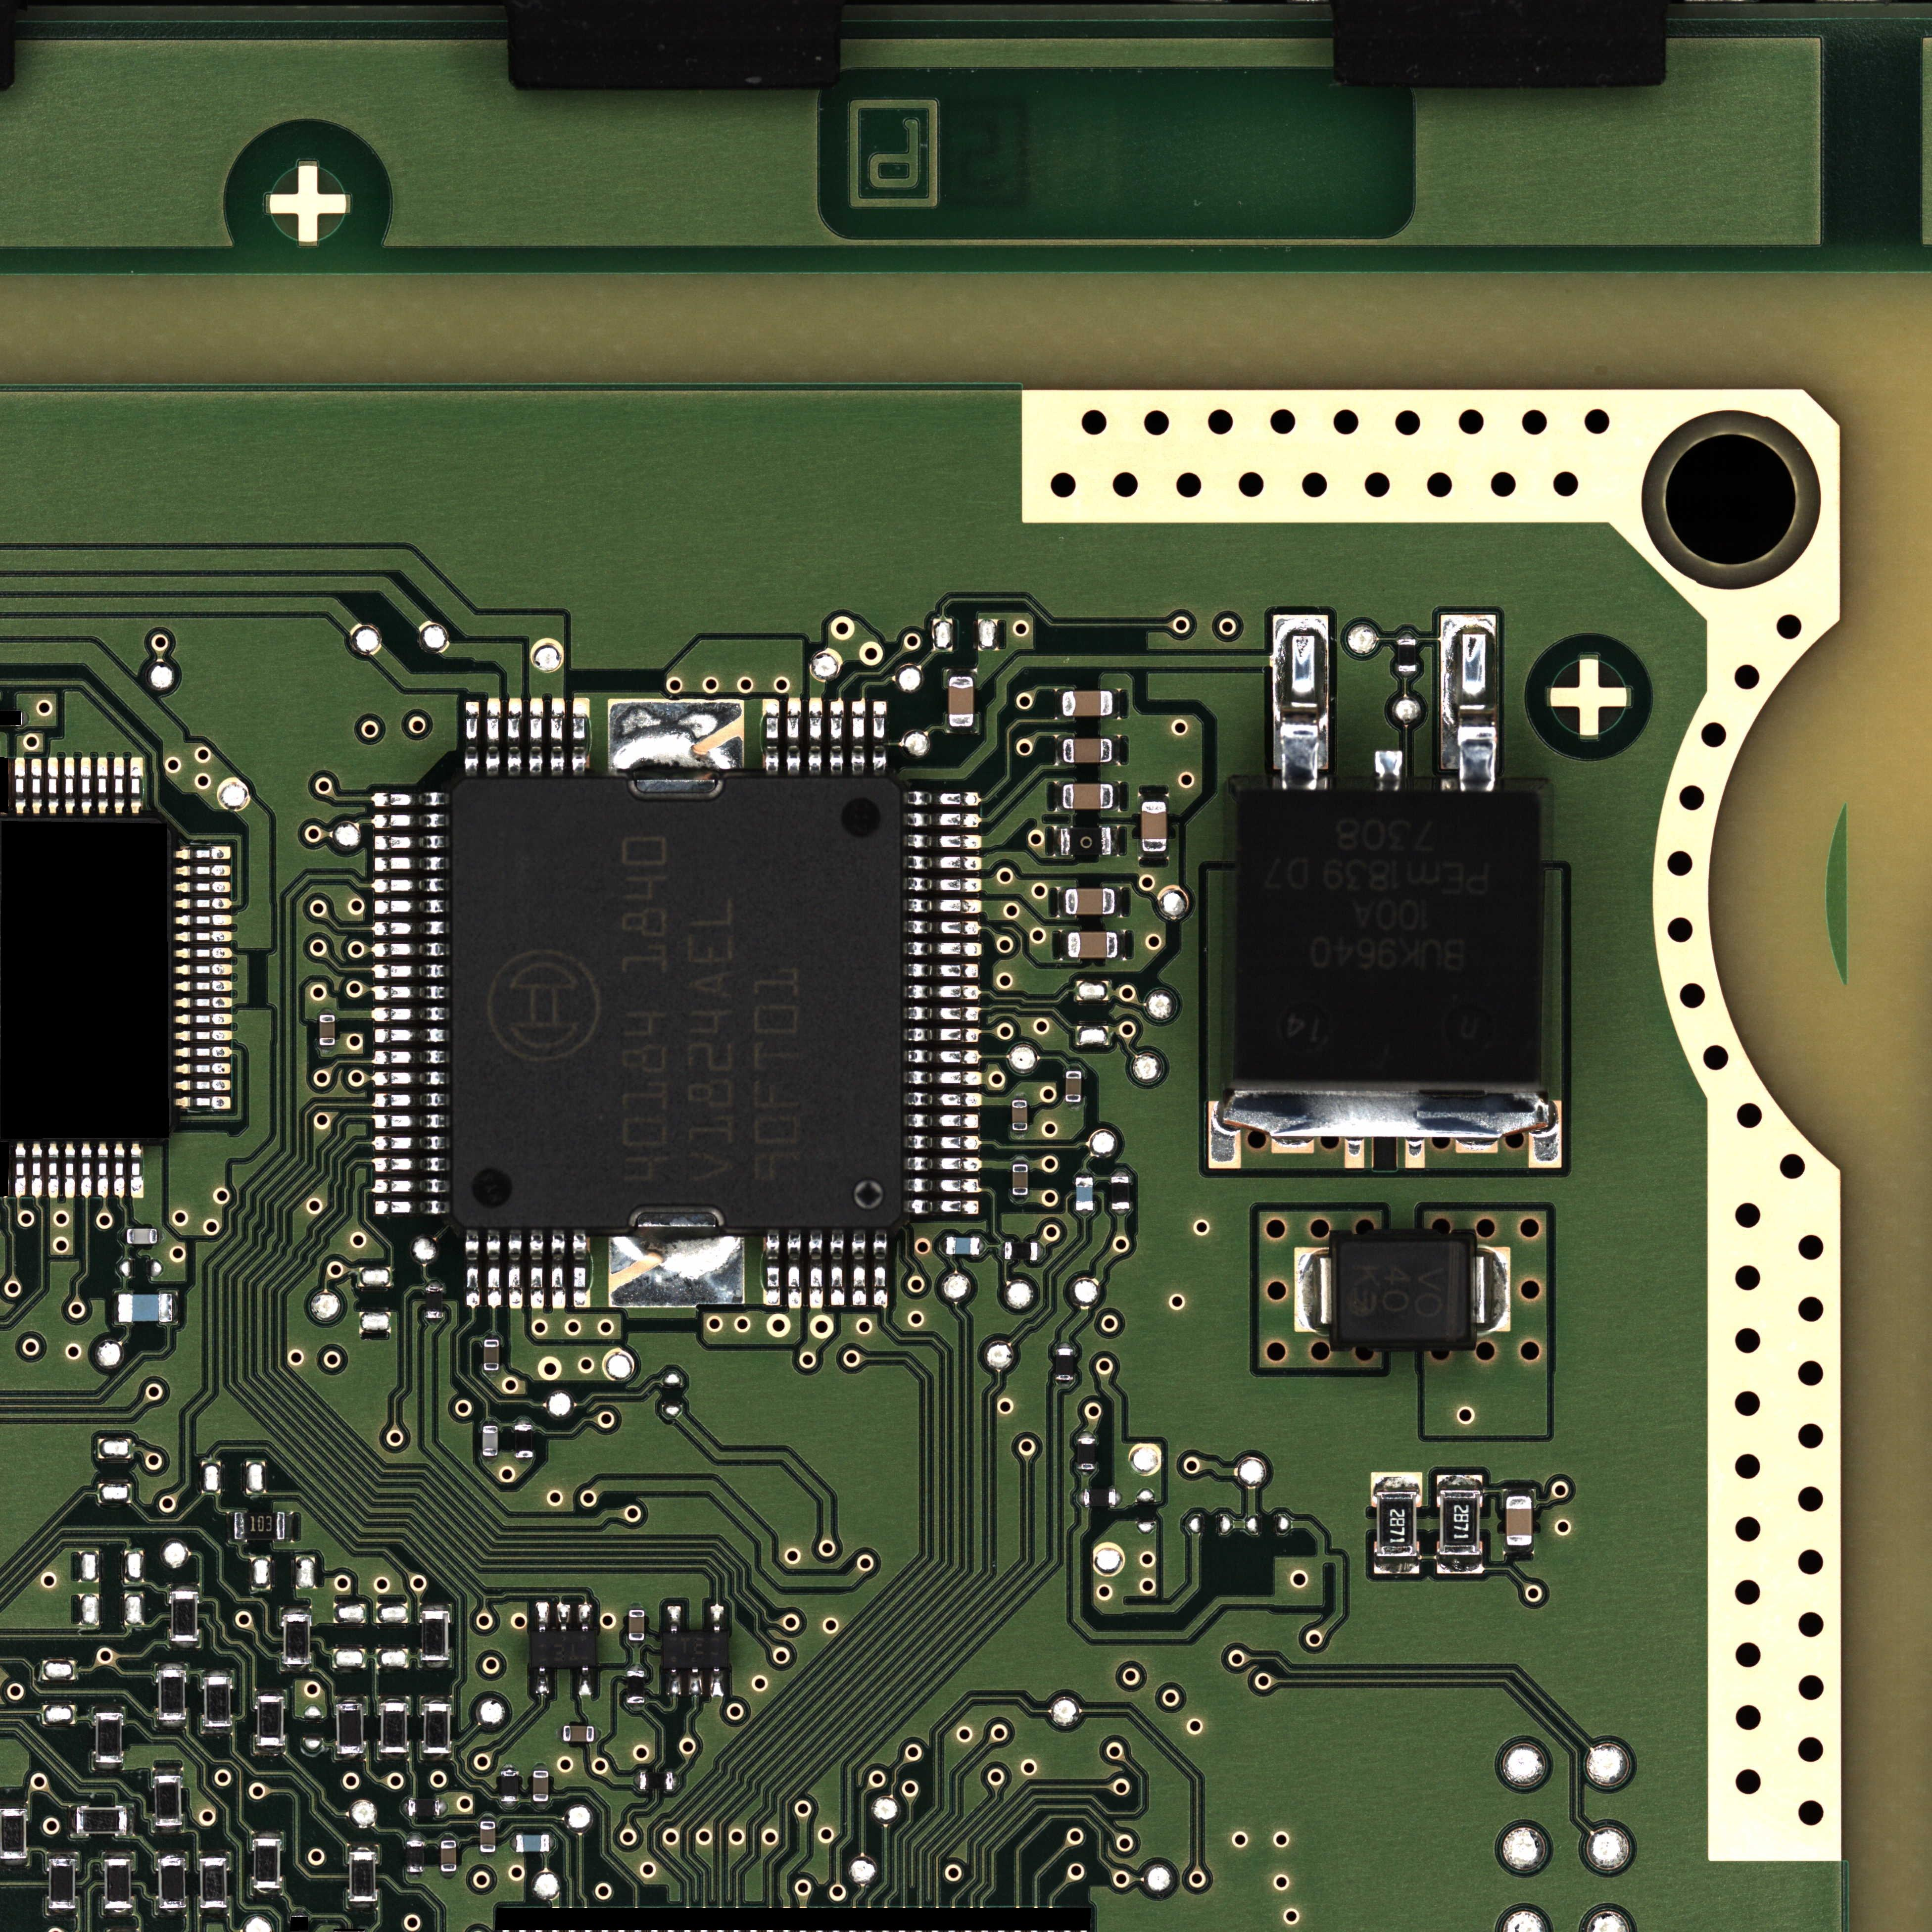Package: (452, 780, 902, 1225), (1237, 792, 1542, 1084), (1338, 1241, 1468, 1341), (1376, 1492, 1417, 1556), (1439, 1490, 1480, 1555), (663, 1632, 728, 1668), (531, 1631, 596, 1667), (119, 1294, 172, 1322), (1061, 827, 1111, 856), (235, 1512, 285, 1540), (1062, 783, 1113, 809), (1064, 888, 1114, 915), (1068, 932, 1118, 958), (172, 1592, 198, 1641), (284, 1615, 310, 1664), (1063, 691, 1113, 716), (337, 1704, 363, 1753), (77, 1808, 126, 1834), (1142, 802, 1167, 852), (1506, 1497, 1532, 1546), (159, 1858, 184, 1908), (105, 1859, 131, 1909), (949, 676, 973, 726), (258, 1696, 283, 1745), (381, 1703, 406, 1752), (97, 1713, 121, 1762), (49, 1859, 74, 1909), (205, 1677, 230, 1726), (423, 1611, 448, 1660), (254, 1839, 279, 1888), (425, 1704, 449, 1753), (159, 1671, 184, 1720), (350, 1852, 375, 1901), (1063, 738, 1112, 763), (156, 1776, 180, 1826), (0, 1809, 25, 1859), (201, 1858, 226, 1907), (1004, 1241, 1038, 1260), (1398, 638, 1417, 672), (1055, 1348, 1075, 1380), (946, 1237, 979, 1255), (516, 1834, 549, 1852), (1076, 1177, 1094, 1210), (640, 1772, 673, 1790), (500, 1770, 519, 1802), (627, 1670, 645, 1703), (1111, 1176, 1129, 1209), (1077, 1438, 1096, 1469), (516, 1425, 532, 1457), (426, 1287, 443, 1318), (408, 1799, 440, 1816), (1084, 1490, 1115, 1506), (407, 1841, 423, 1872), (1066, 1071, 1082, 1102), (532, 1771, 548, 1801), (480, 1822, 495, 1852), (483, 1426, 498, 1456), (441, 1840, 456, 1871), (629, 1610, 644, 1641), (563, 1726, 594, 1741), (484, 1340, 499, 1370), (320, 1015, 335, 1045), (1012, 1100, 1027, 1130), (1013, 1164, 1028, 1195), (127, 1229, 157, 1244)
Solder: (1208, 1085, 1562, 1168), (608, 699, 744, 780), (608, 1229, 746, 1307), (1440, 616, 1497, 792), (1273, 614, 1329, 790), (1467, 1247, 1513, 1334), (1293, 1247, 1338, 1333), (572, 1229, 590, 1309), (763, 1229, 781, 1307), (550, 1228, 567, 1309), (529, 1229, 546, 1310), (904, 1198, 980, 1215), (904, 1069, 982, 1087), (903, 1091, 980, 1108), (904, 1134, 981, 1151), (904, 1176, 980, 1194), (904, 1155, 980, 1172), (904, 1112, 980, 1129), (904, 962, 980, 979), (507, 1229, 523, 1309), (486, 1228, 502, 1308), (903, 1027, 981, 1044), (808, 1229, 824, 1308), (904, 1048, 980, 1065), (904, 984, 980, 1001), (904, 1005, 980, 1022), (371, 792, 449, 808), (903, 941, 981, 957), (851, 1228, 867, 1306), (786, 1228, 802, 1308), (572, 698, 588, 775), (373, 1178, 450, 1194), (904, 855, 981, 871), (763, 699, 779, 775), (904, 919, 981, 936), (830, 1229, 846, 1307), (372, 813, 449, 829), (372, 942, 449, 958), (372, 1049, 449, 1065), (373, 1070, 450, 1086), (373, 1157, 450, 1172), (904, 898, 981, 914), (904, 834, 981, 850), (904, 877, 980, 893), (873, 1229, 888, 1307), (374, 1027, 450, 1043), (372, 985, 450, 1000), (372, 964, 450, 979), (372, 1006, 450, 1021), (373, 1135, 450, 1151), (374, 899, 449, 915), (374, 856, 449, 871), (375, 1199, 450, 1215), (374, 834, 449, 850), (372, 921, 449, 936), (373, 1113, 449, 1129), (373, 1092, 450, 1108), (904, 791, 980, 807), (904, 812, 980, 827), (465, 1230, 480, 1309), (372, 878, 448, 893), (507, 698, 522, 776), (486, 698, 501, 776), (529, 698, 543, 776), (786, 697, 801, 775), (550, 698, 565, 775), (808, 698, 822, 775), (829, 699, 844, 775), (851, 699, 866, 775), (1375, 751, 1402, 791), (465, 701, 479, 775), (872, 700, 886, 775), (1372, 1473, 1422, 1490), (1437, 1556, 1484, 1574), (1373, 1557, 1420, 1574), (130, 758, 144, 815), (174, 846, 232, 859), (131, 1142, 144, 1198), (175, 1030, 231, 1042), (175, 948, 231, 960), (175, 996, 231, 1008), (1437, 1475, 1483, 1489), (175, 881, 231, 892), (175, 914, 231, 925), (175, 865, 231, 876), (174, 1097, 230, 1108), (175, 1080, 230, 1091), (175, 898, 232, 909), (175, 964, 232, 975), (175, 1046, 232, 1057), (175, 980, 232, 991), (175, 1013, 231, 1024), (175, 931, 232, 942), (15, 758, 26, 814), (31, 758, 42, 814), (48, 758, 59, 814), (97, 758, 108, 814), (114, 758, 125, 814), (175, 1063, 230, 1074), (64, 758, 75, 814), (81, 758, 92, 814), (15, 1141, 26, 1196), (32, 1141, 42, 1196), (114, 1142, 125, 1197), (48, 1141, 58, 1196), (65, 1142, 75, 1197), (82, 1141, 92, 1196), (98, 1142, 108, 1197), (578, 1667, 592, 1696), (534, 1602, 549, 1632), (535, 1667, 550, 1696), (688, 1668, 703, 1696), (578, 1603, 592, 1631), (556, 1603, 571, 1631), (667, 1605, 681, 1633), (710, 1604, 724, 1632), (710, 1668, 724, 1696), (668, 1669, 682, 1695), (348, 1841, 377, 1852), (1117, 929, 1127, 961), (1114, 886, 1124, 917), (1111, 825, 1120, 857), (1057, 886, 1065, 918), (1054, 781, 1063, 812), (252, 1829, 281, 1838), (1112, 736, 1121, 765), (1139, 852, 1169, 861), (199, 1849, 228, 1858), (281, 1664, 312, 1672), (1139, 793, 1168, 801), (158, 1849, 186, 1858), (946, 726, 977, 734), (1112, 689, 1121, 718), (1113, 781, 1121, 811), (157, 1720, 186, 1728), (255, 1746, 286, 1754), (1055, 735, 1063, 766), (169, 1641, 199, 1648), (420, 1661, 450, 1669), (947, 669, 977, 676), (280, 1607, 311, 1615), (1053, 826, 1061, 857), (1061, 929, 1068, 960), (201, 1907, 228, 1916), (126, 1805, 134, 1835), (204, 1726, 232, 1734), (158, 1908, 186, 1916), (104, 1851, 133, 1859), (1055, 689, 1063, 719), (1503, 1546, 1533, 1553), (1503, 1488, 1533, 1496), (170, 1584, 199, 1591), (94, 1763, 123, 1770), (227, 1512, 235, 1541), (253, 1888, 282, 1896), (70, 1806, 77, 1835), (104, 1908, 133, 1916), (202, 1669, 231, 1677), (285, 1512, 292, 1541), (336, 1696, 364, 1704), (48, 1851, 76, 1858), (157, 1663, 187, 1670), (423, 1696, 450, 1704), (154, 1768, 182, 1775), (256, 1690, 285, 1696), (48, 1908, 75, 1916), (349, 1901, 377, 1908), (172, 1292, 178, 1323), (0, 1859, 26, 1866), (94, 1706, 123, 1712), (380, 1696, 408, 1703), (155, 1826, 182, 1832), (422, 1604, 448, 1610), (381, 1752, 407, 1758), (423, 1752, 450, 1759), (1, 1801, 26, 1808), (1398, 630, 1416, 638), (113, 1293, 118, 1323), (338, 1753, 363, 1759), (119, 1227, 128, 1245), (1397, 671, 1417, 678), (1077, 1431, 1095, 1438), (1057, 1341, 1073, 1349), (22, 711, 30, 727), (425, 1318, 443, 1325), (426, 1280, 442, 1287), (157, 1228, 164, 1245), (515, 1457, 532, 1464), (1056, 1380, 1073, 1387), (291, 1908, 308, 1914), (502, 1802, 517, 1809), (1038, 1244, 1045, 1259), (319, 1009, 335, 1015), (940, 1238, 946, 1254), (319, 1046, 335, 1053), (1078, 1470, 1095, 1476), (1077, 1491, 1084, 1505), (501, 1764, 517, 1771), (1113, 1209, 1129, 1215), (483, 1419, 498, 1426), (484, 1333, 499, 1339), (629, 1603, 644, 1610), (1116, 1491, 1122, 1505), (1014, 1157, 1027, 1163), (533, 1764, 548, 1771), (979, 1238, 985, 1254), (1014, 1195, 1027, 1202), (516, 1419, 531, 1425), (484, 1370, 499, 1376), (629, 1641, 644, 1646), (999, 1243, 1005, 1258), (408, 1872, 422, 1878), (549, 1836, 555, 1850), (510, 1836, 516, 1850), (628, 1703, 643, 1709), (634, 1774, 640, 1788), (408, 1835, 422, 1841), (534, 1801, 547, 1807), (1113, 1171, 1127, 1176), (1077, 1172, 1091, 1177), (558, 1726, 563, 1741), (673, 1774, 677, 1788), (629, 1665, 643, 1670), (483, 1456, 497, 1461), (594, 1727, 599, 1741), (439, 1801, 445, 1814), (403, 1800, 408, 1814), (1077, 1210, 1092, 1215), (1013, 1095, 1025, 1101), (1014, 1130, 1026, 1135), (1067, 1102, 1080, 1107), (442, 1872, 455, 1877), (481, 1817, 494, 1821), (442, 1836, 454, 1840), (481, 1852, 494, 1856), (1067, 1067, 1080, 1071)
